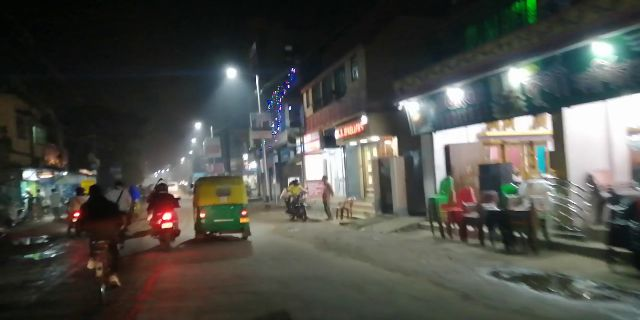Autorickshaw: (193, 175, 255, 241)
Cycle: (74, 182, 130, 301)
Motorbike: (149, 182, 183, 250)
